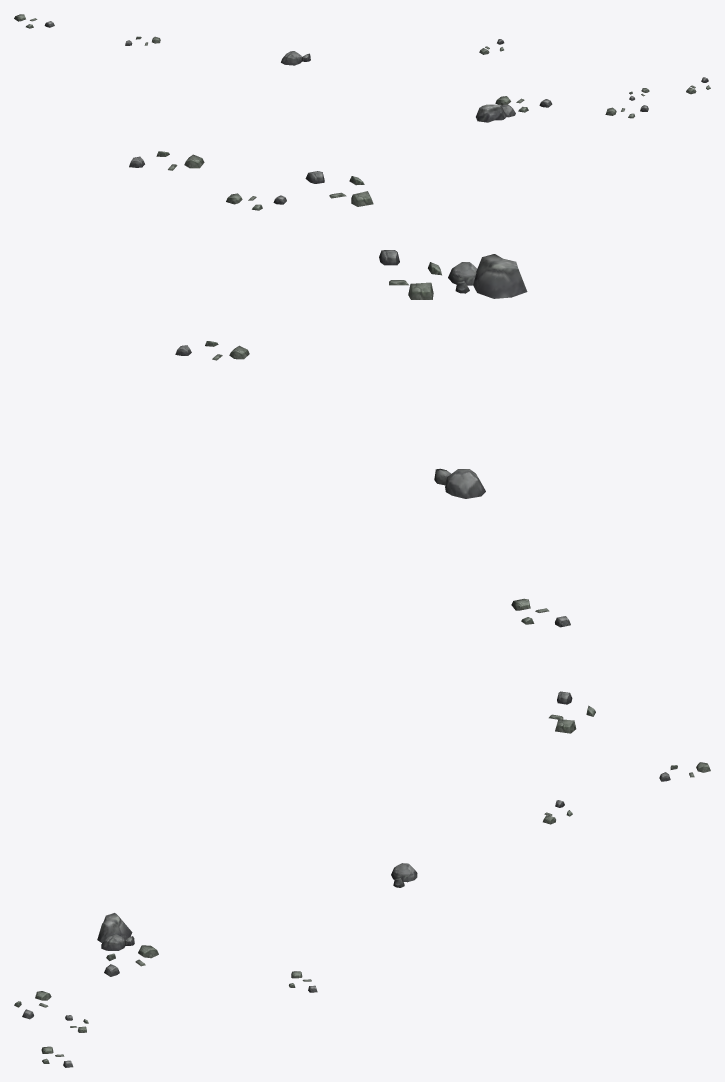
Rendered from Area_12_4.fbx.
3 views of the same model, one above another, from view 1: azimuth 30°, elevation 25°; view 2: azimuth 150°, elevation 25°; view 3: azimuth 270°, elevation 25° (orthographic). The views are drawn at different scales.
Parts seen in each view (by area): view 1: Area_12_4; view 2: Area_12_4; view 3: Area_12_4.
Part boxes in pixels (x1,y1,x2,y2): Area_12_4: (14, 14, 710, 122); Area_12_4: (129, 151, 595, 733); Area_12_4: (14, 762, 710, 1067).
Size of the model in its own units: 4076 by 114 by 3981.
